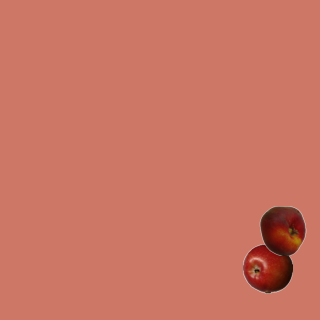Apple Braeburn: (242, 243, 292, 293)
Nectarine Flat: (257, 205, 307, 255)
